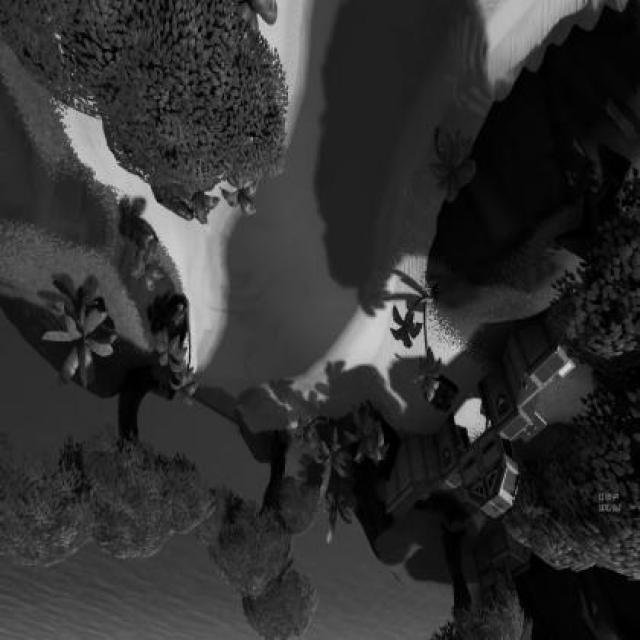tank: (147, 177, 207, 228), (412, 372, 461, 414)
